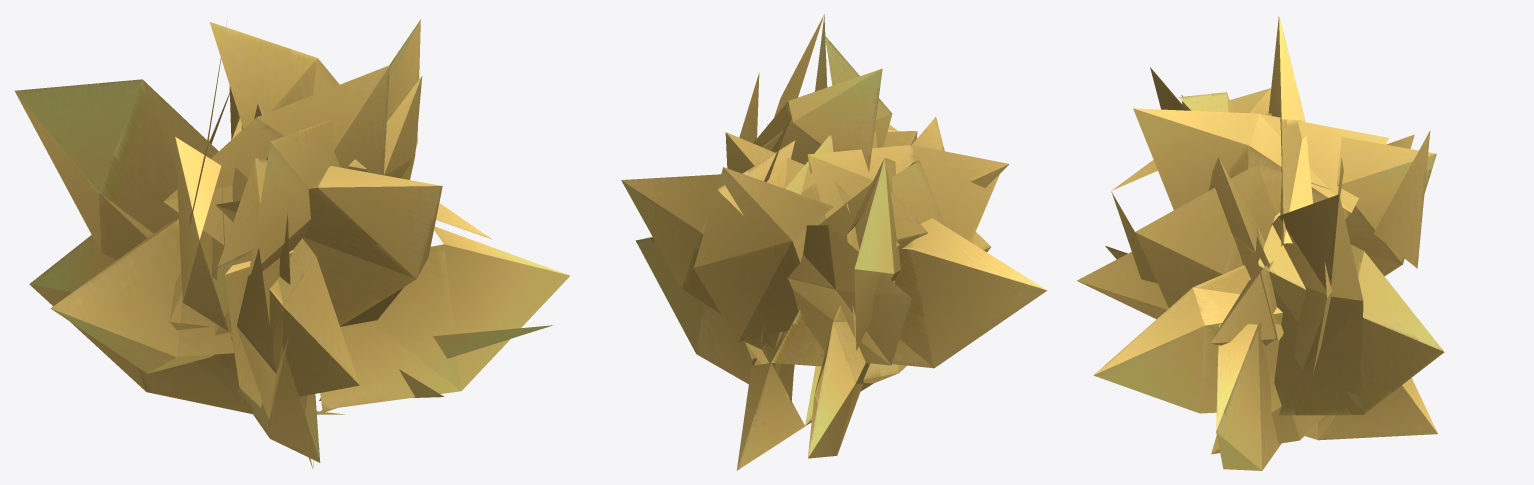
File: ATT_Desert_Thrall_A_v01.glb
The picture shows the model from 3 angles, left to right: view 1: azimuth 30°, elevation 25°; view 2: azimuth 150°, elevation 25°; view 3: azimuth 270°, elevation 25°; orthographic projection. The views are drawn at different scales.
Visible parts, largest first — view 1: ATT_Desert_Shoulder_L_A, ATT_Desert_Shoulder_R_A, ATT_Desert_Chest_A, ATT_Desert_Back_A, ATT_Desert_Leg_L_A, ATT_Desert_Head_A, ATT_Desert_Leg_R_A; view 2: ATT_Desert_Shoulder_R_A, ATT_Desert_Head_A, ATT_Desert_Chest_A, ATT_Desert_Shoulder_L_A, ATT_Desert_Back_A, ATT_Desert_Leg_R_A, ATT_Desert_Leg_L_A; view 3: ATT_Desert_Back_A, ATT_Desert_Chest_A, ATT_Desert_Head_A, ATT_Desert_Shoulder_L_A, ATT_Desert_Shoulder_R_A, ATT_Desert_Leg_L_A, ATT_Desert_Leg_R_A.
Part boxes in pixels (left/top/right/bottom): ATT_Desert_Shoulder_L_A: left=163, top=65, right=569, bottom=411; ATT_Desert_Shoulder_R_A: left=50, top=22, right=339, bottom=407; ATT_Desert_Chest_A: left=14, top=79, right=345, bottom=414; ATT_Desert_Back_A: left=175, top=104, right=552, bottom=462; ATT_Desert_Leg_L_A: left=210, top=118, right=491, bottom=400; ATT_Desert_Head_A: left=207, top=19, right=422, bottom=335; ATT_Desert_Leg_R_A: left=169, top=90, right=313, bottom=469; ATT_Desert_Shoulder_R_A: left=753, top=68, right=1047, bottom=368; ATT_Desert_Head_A: left=693, top=73, right=944, bottom=341; ATT_Desert_Chest_A: left=717, top=140, right=900, bottom=470; ATT_Desert_Shoulder_L_A: left=621, top=36, right=899, bottom=384; ATT_Desert_Back_A: left=752, top=14, right=999, bottom=425; ATT_Desert_Leg_R_A: left=807, top=145, right=1009, bottom=218; ATT_Desert_Leg_L_A: left=745, top=325, right=868, bottom=403; ATT_Desert_Back_A: left=1093, top=88, right=1388, bottom=413; ATT_Desert_Chest_A: left=1258, top=137, right=1444, bottom=440; ATT_Desert_Head_A: left=1181, top=95, right=1430, bottom=396; ATT_Desert_Shoulder_L_A: left=1111, top=92, right=1343, bottom=470; ATT_Desert_Shoulder_R_A: left=1150, top=14, right=1414, bottom=268; ATT_Desert_Leg_L_A: left=1209, top=261, right=1324, bottom=454; ATT_Desert_Leg_R_A: left=1077, top=251, right=1168, bottom=319.
Size of the model in its own units: 0.2341 by 0.1918 by 0.1996.
1 material, 1 textured.
